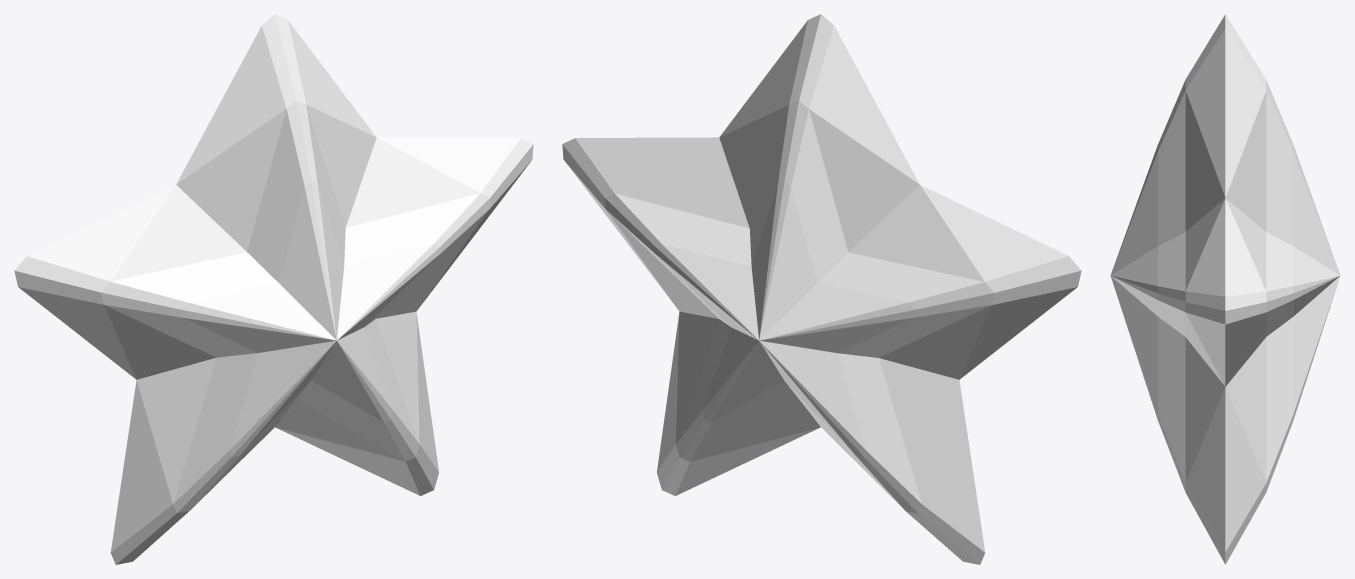
The model's file is star.obj.
The picture shows the model from 3 angles, left to right: view 1: azimuth 30°, elevation 25°; view 2: azimuth 150°, elevation 25°; view 3: azimuth 270°, elevation 25°; orthographic projection. The views are drawn at different scales.
Visible parts, largest first — view 1: 円; view 2: 円; view 3: 円.
Boxes of the visible parts, left/top/right/bottom form: 円: left=14, top=14, right=533, bottom=564; 円: left=562, top=14, right=1081, bottom=564; 円: left=1110, top=14, right=1340, bottom=564.
Size of the model in its own units: 1.85 by 1.76 by 0.7615.
Materials: 1 (1 with a texture image).
